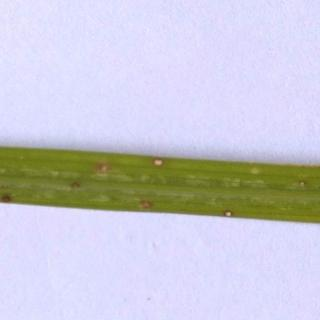Blast: (43, 151, 135, 180), (203, 196, 249, 236), (113, 188, 170, 206), (285, 167, 318, 194), (144, 148, 174, 174), (1, 185, 40, 205)
